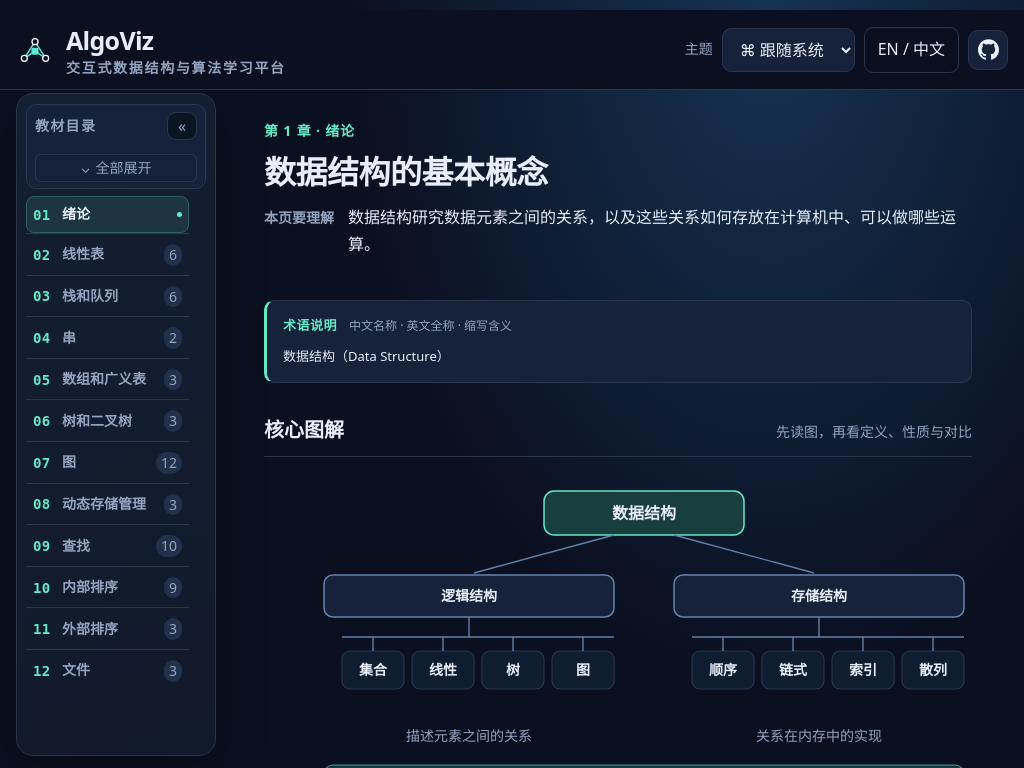
Test case: a reload is a fresh textbook session › returns to the concept hero top with an open first-level-only directory on every mount
The width and height of the screenshot is (1024, 768).
Later steps or results of the test are not shown.
Expected: the heading with test id "concept-title" reads "数据结构的基本概念", [264,150,548,193]
Click the button with test id "chapter-ch1-intro". click: (108, 214)
box: [26,196,189,233]
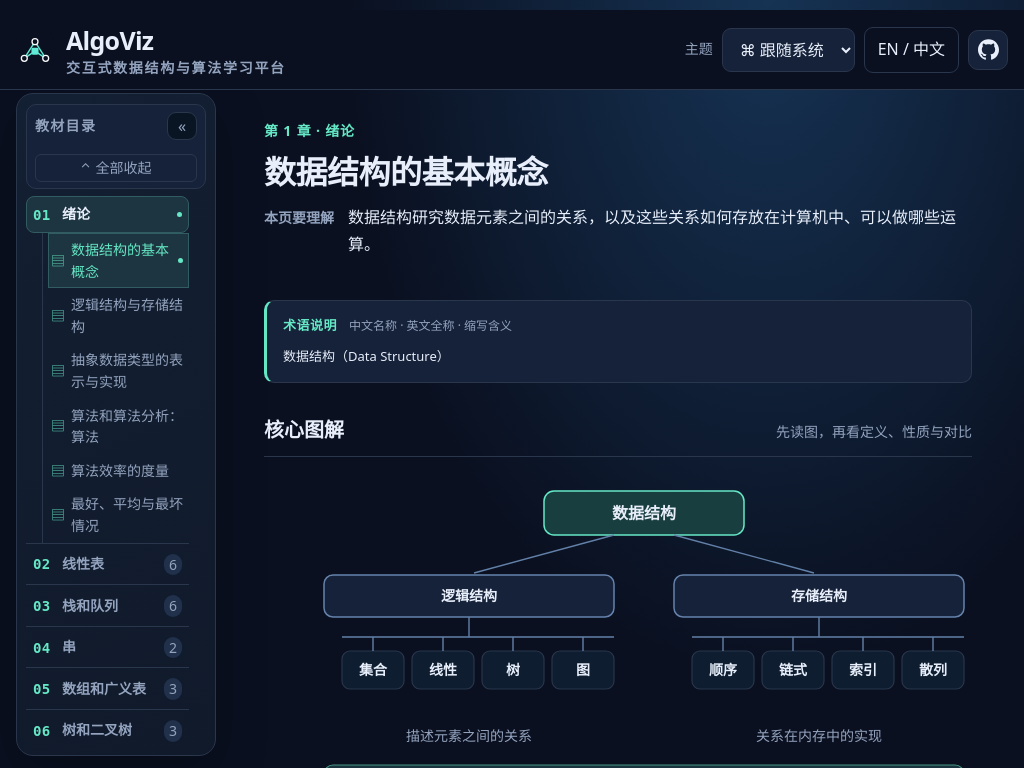
Click the button with test id "sidebar-collapse". click: (182, 126)
box: [167,112,197,140]
(page scrolled)
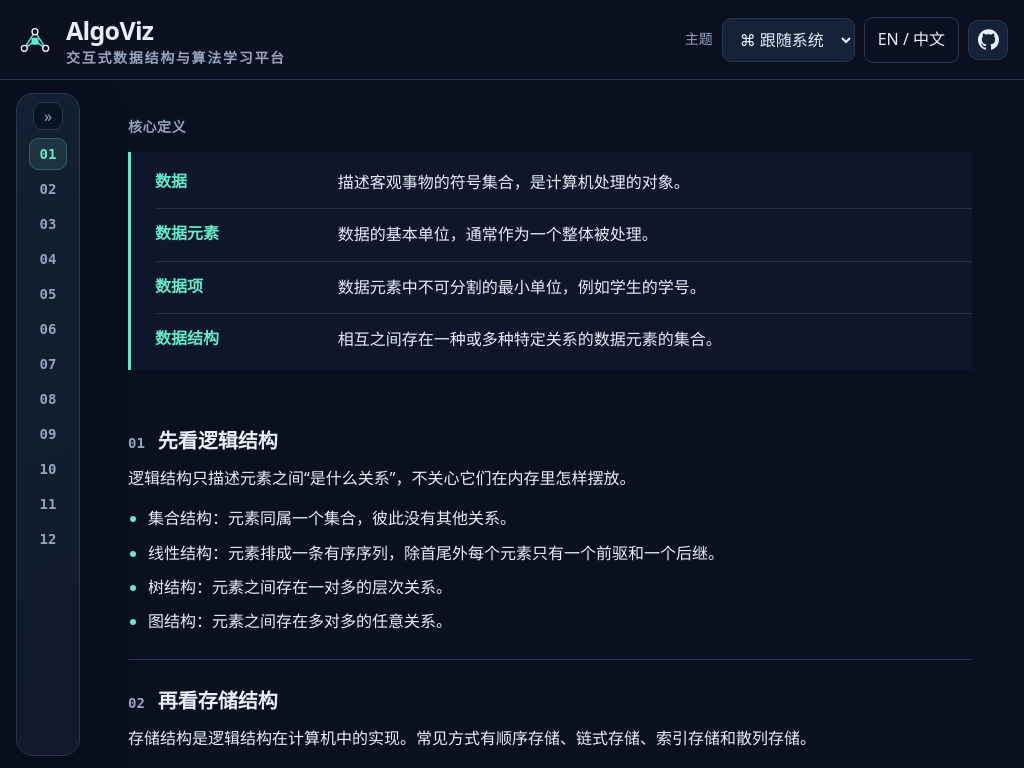
Now the element with test id "sidebar" has attribute data-collapsed="true", box [16,93,80,756]
